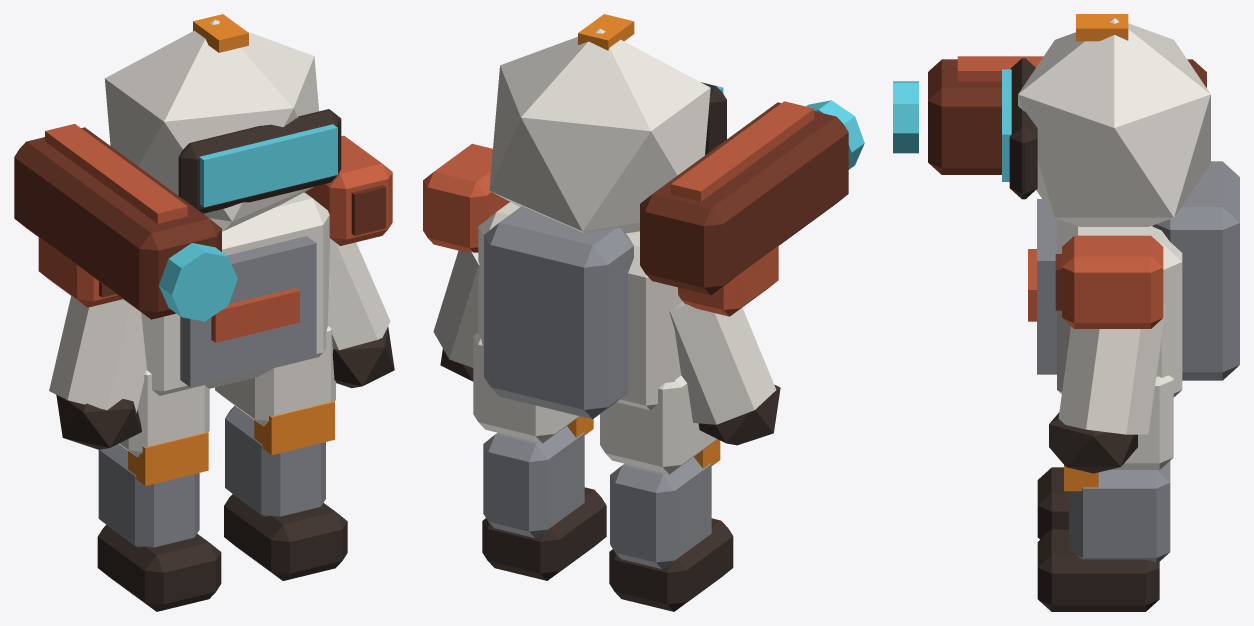
The model's file is u_pikeman.glb.
3 views of the same model, side by side, from view 1: azimuth 30°, elevation 25°; view 2: azimuth 150°, elevation 25°; view 3: azimuth 270°, elevation 25° (orthographic).
Visible parts, largest first — view 1: u_pikeman; view 2: u_pikeman; view 3: u_pikeman.
Part boxes in pixels (box(x1,y1,x2,y2)): u_pikeman: box(14, 14, 394, 611); u_pikeman: box(423, 14, 864, 611); u_pikeman: box(893, 14, 1239, 611).
Size of the model in its own units: 0.1989 by 0.32 by 0.183.
